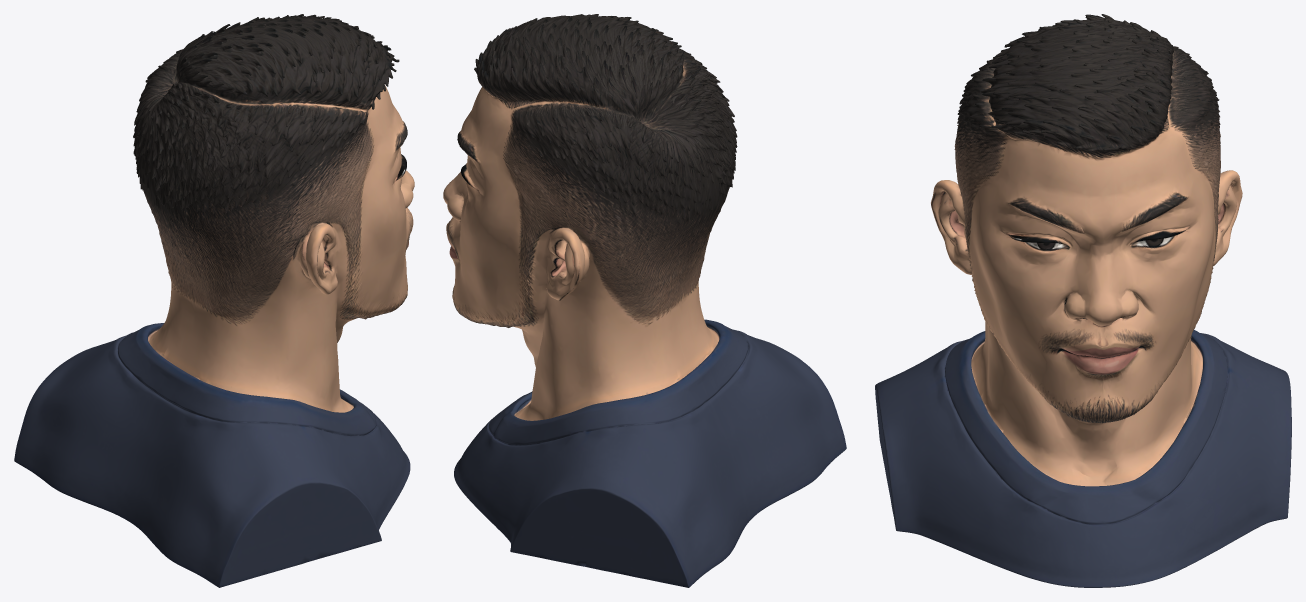
File: jinsoo_son_v3_bust_tripo.glb
The picture shows the model from 3 angles, left to right: view 1: azimuth 30°, elevation 25°; view 2: azimuth 150°, elevation 25°; view 3: azimuth 270°, elevation 25°; orthographic projection. The views are drawn at different scales.
Parts seen in each view (by area): view 1: tripo_node_696c8be6-1d55-494f-9ec4-cd4582ada6a8; view 2: tripo_node_696c8be6-1d55-494f-9ec4-cd4582ada6a8; view 3: tripo_node_696c8be6-1d55-494f-9ec4-cd4582ada6a8.
Boxes of the visible parts, left/top/right/bottom form: tripo_node_696c8be6-1d55-494f-9ec4-cd4582ada6a8: left=14, top=14, right=414, bottom=587; tripo_node_696c8be6-1d55-494f-9ec4-cd4582ada6a8: left=443, top=14, right=846, bottom=587; tripo_node_696c8be6-1d55-494f-9ec4-cd4582ada6a8: left=875, top=14, right=1291, bottom=587.
Bounding box in the file's own units: 0.7262 × 0.9793 × 0.7579.
Materials: 1 (1 with a texture image).
